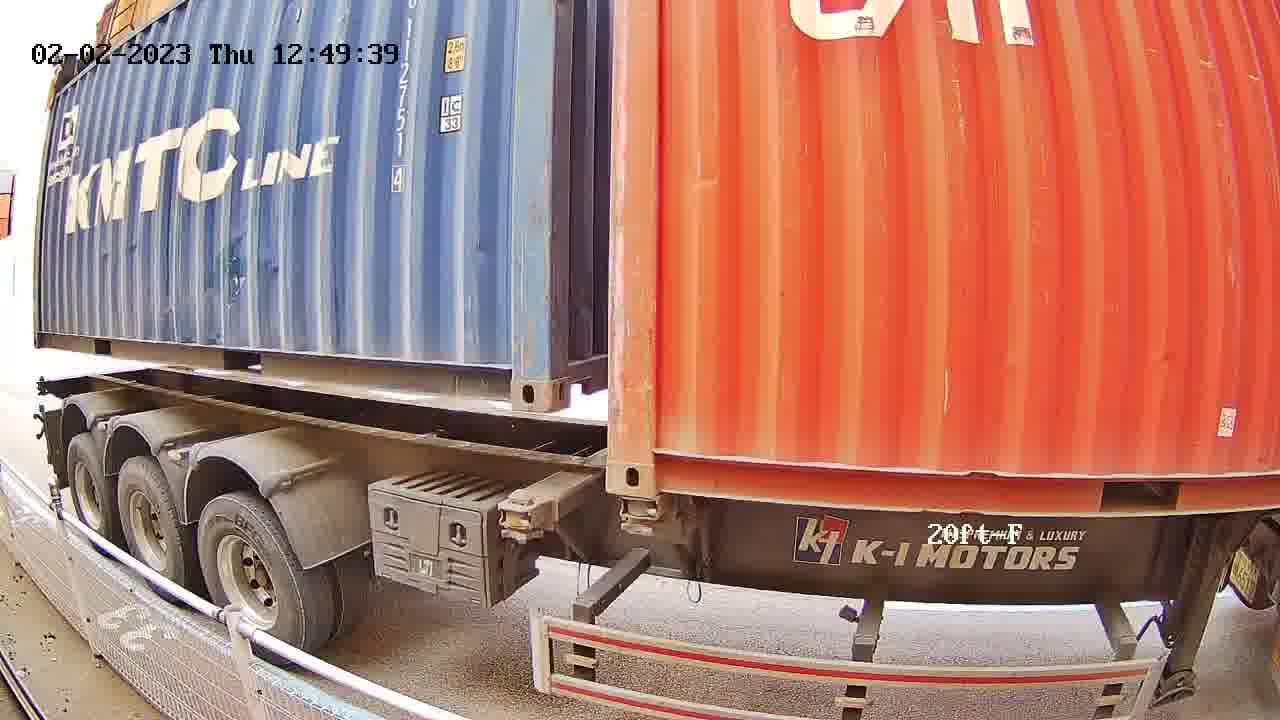Cone: (497, 493, 540, 543), (610, 497, 662, 537)
Hole_L: (607, 419, 697, 501), (549, 326, 605, 414)
Hole_R: (470, 329, 550, 413)
Tire: (198, 497, 307, 665), (118, 458, 183, 597), (66, 438, 113, 545)
